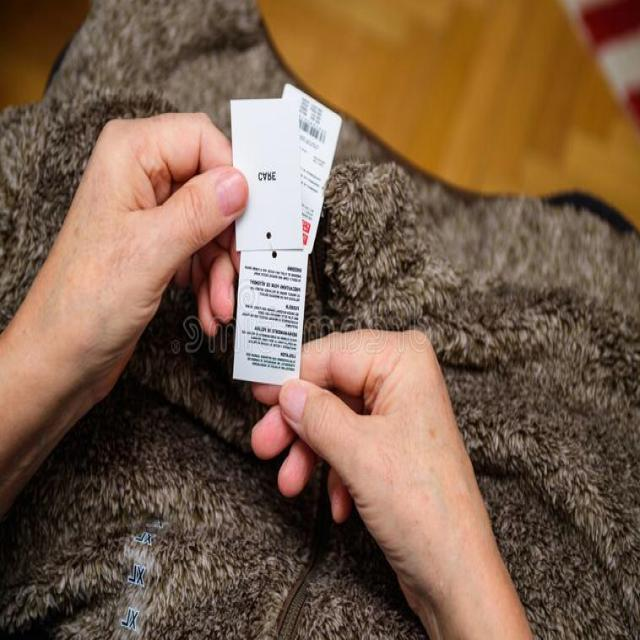clothes: (496, 204, 602, 579)
